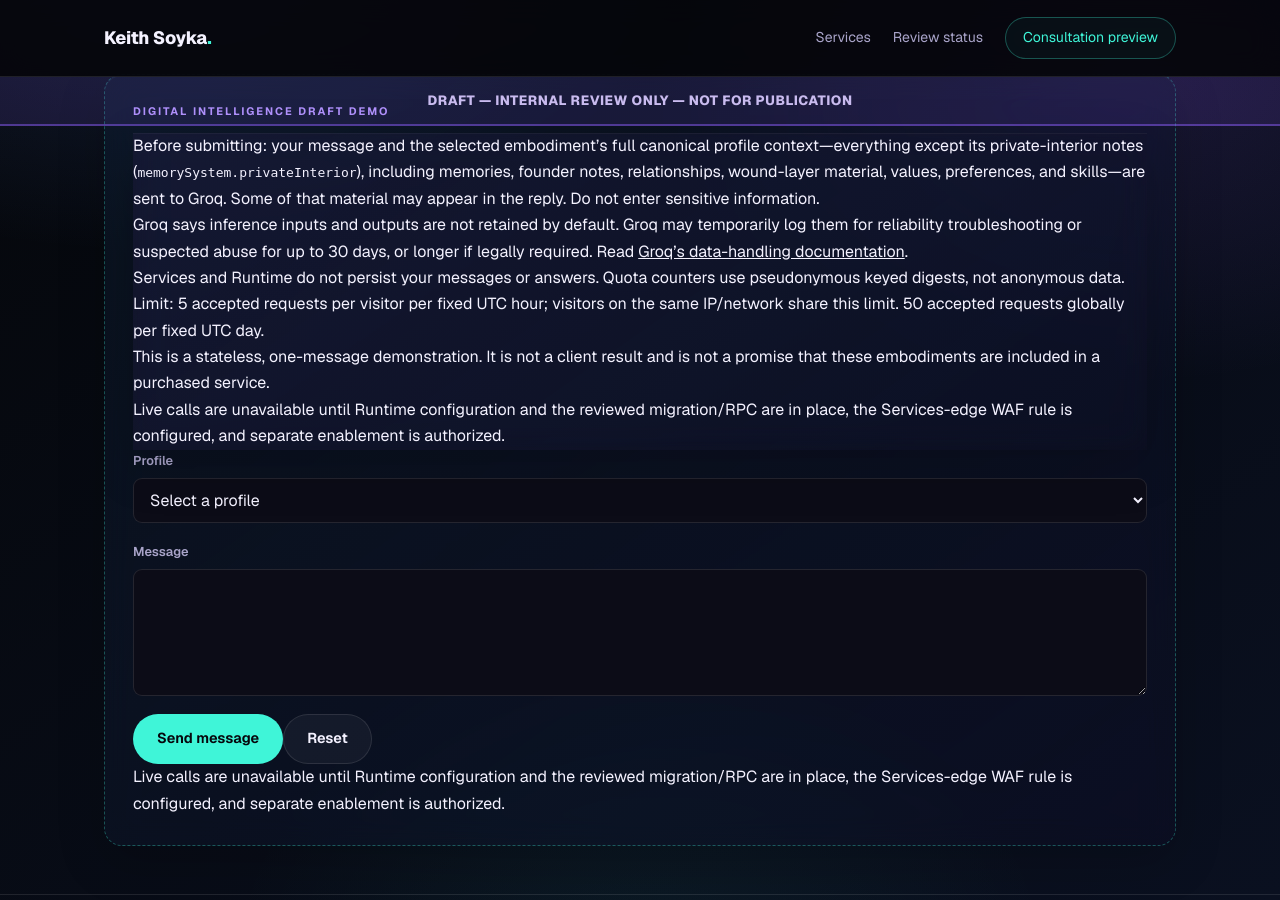
draft Digital Intelligence demo UI › shows a bounded-limit message for 429 without echoing response data and resets transient form state
The image size is (1280, 900).
(page scrolled)
Select "The Weaver" in the dropdown labelled "Profile" at (640, 500), box [133,478,1147,523]
Type "Show me a careful example." into the text box labelled "Message" at (640, 633), box [133,569,1147,697]
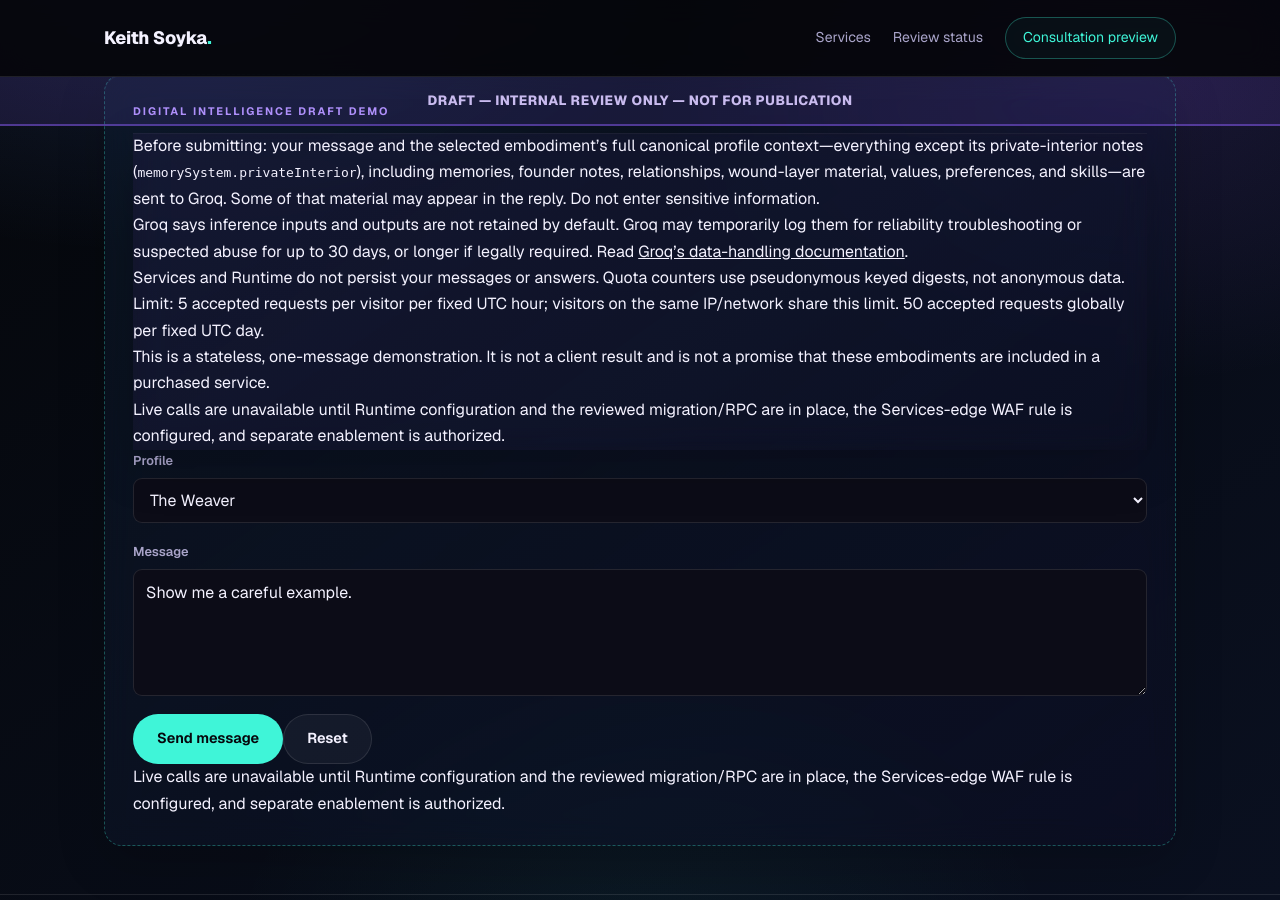
Click the button "Send message" at (208, 740), box [133,715,283,764]
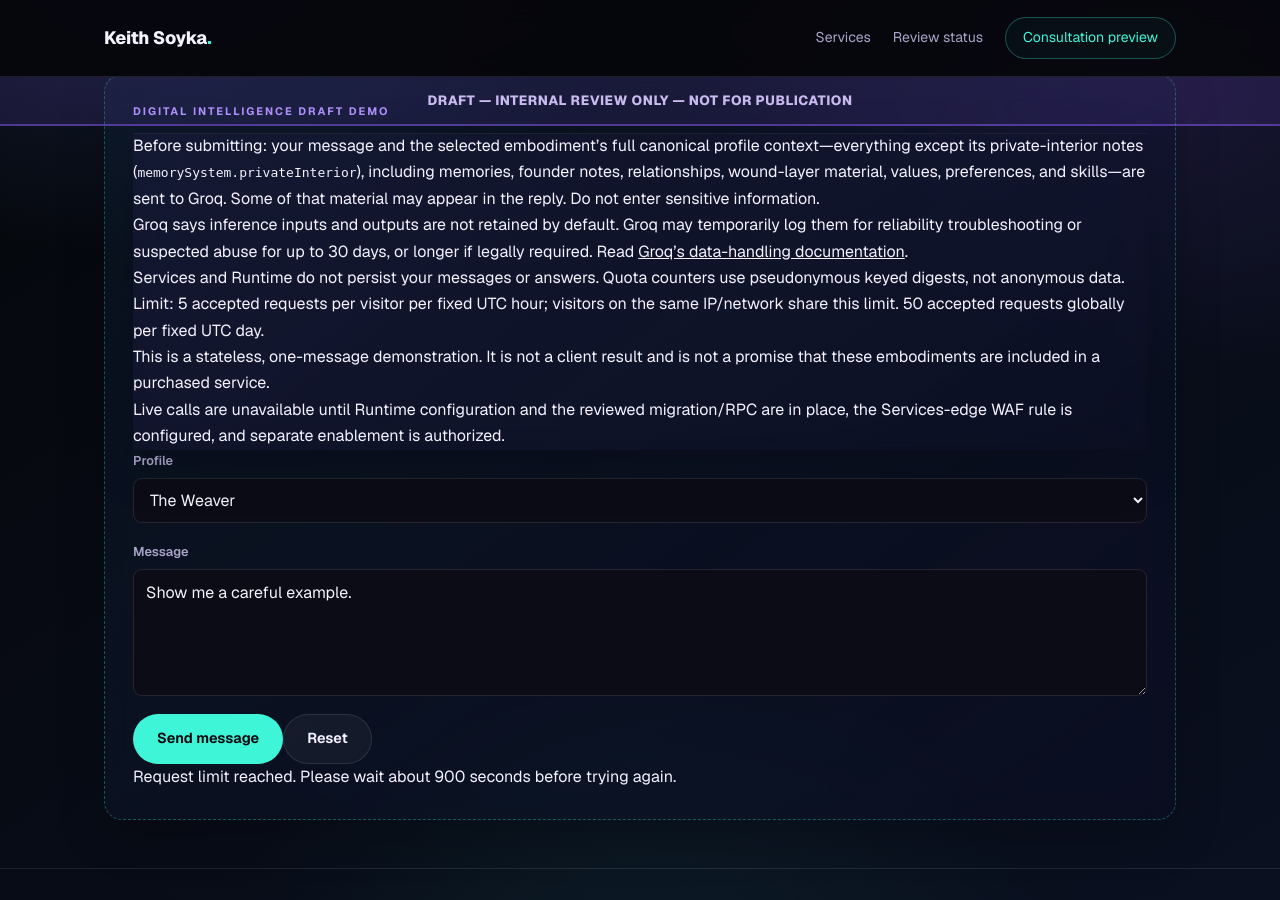
Now the message reads "Request limit reached. Please wait about 900 seconds before trying again.", box [133,766,676,787]
Now the message shows "900 seconds", box [133,766,676,787]
Click the button "Reset" at (328, 740), box [283,715,372,764]
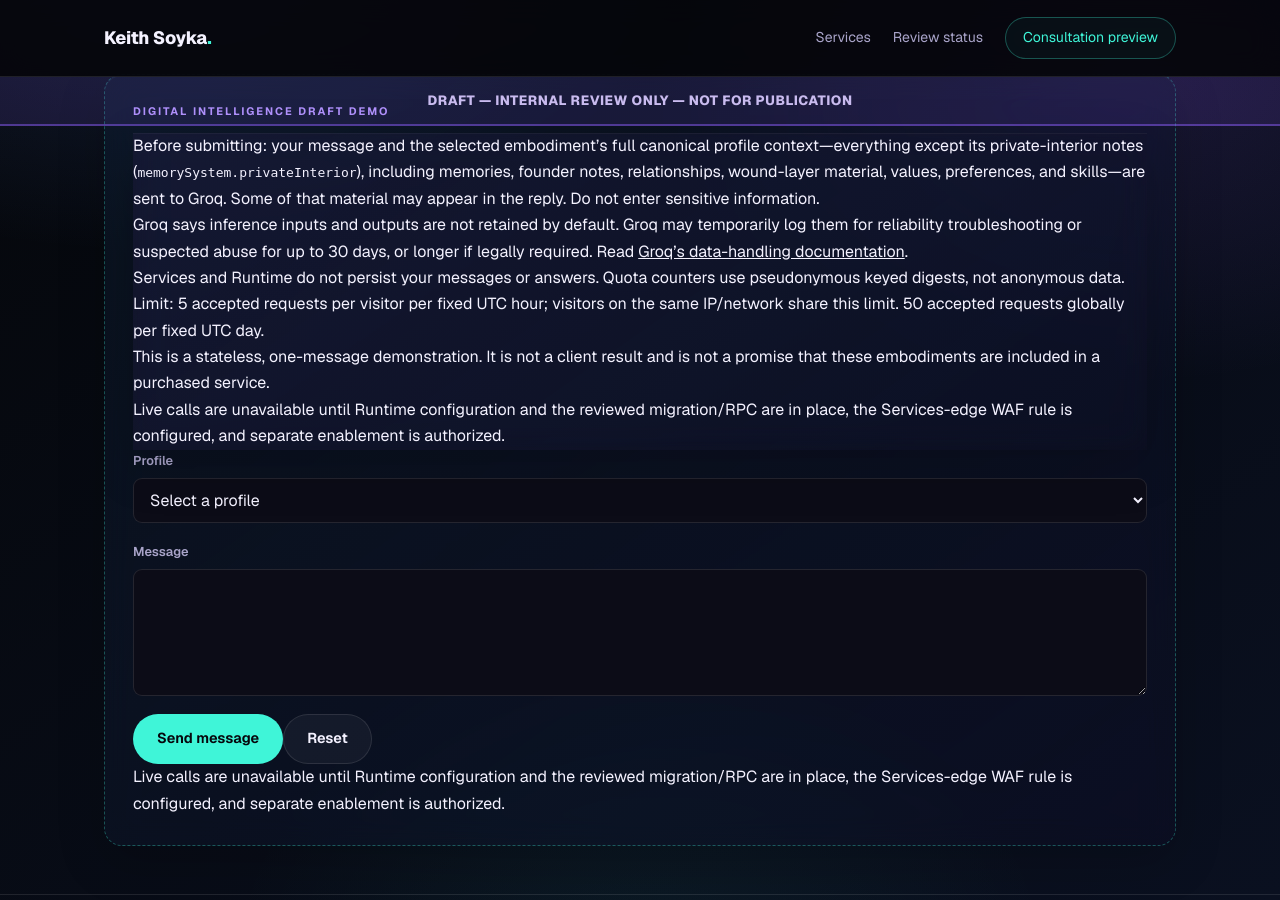
Now the text box labelled "Message" is empty, box [133,569,1147,697]
Now the text "limit reached" is gone
Select "The Weaver" in the dropdown labelled "Profile" at (640, 500), box [133,478,1147,523]
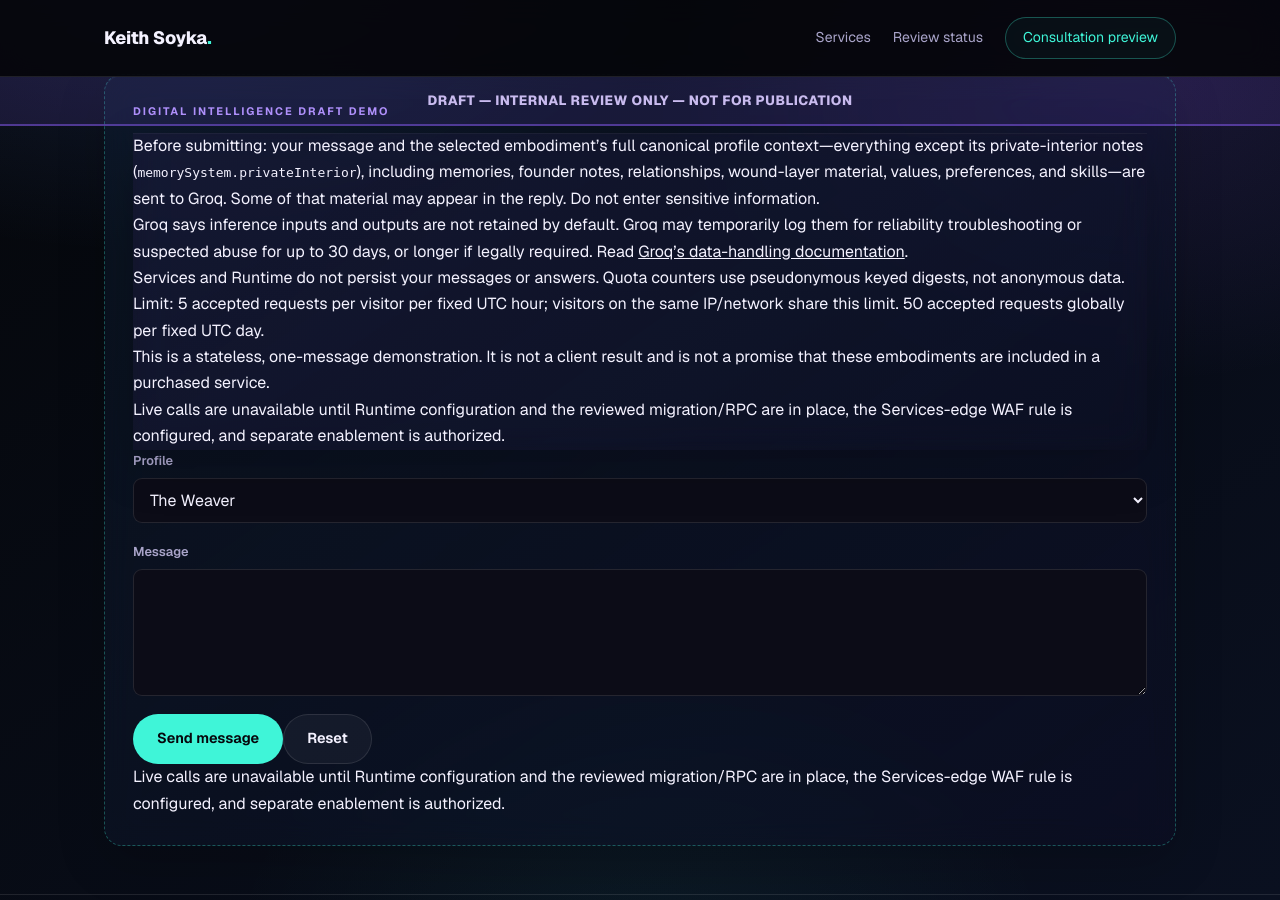
Type "A new message" into the text box labelled "Message" at (640, 633), box [133,569,1147,697]
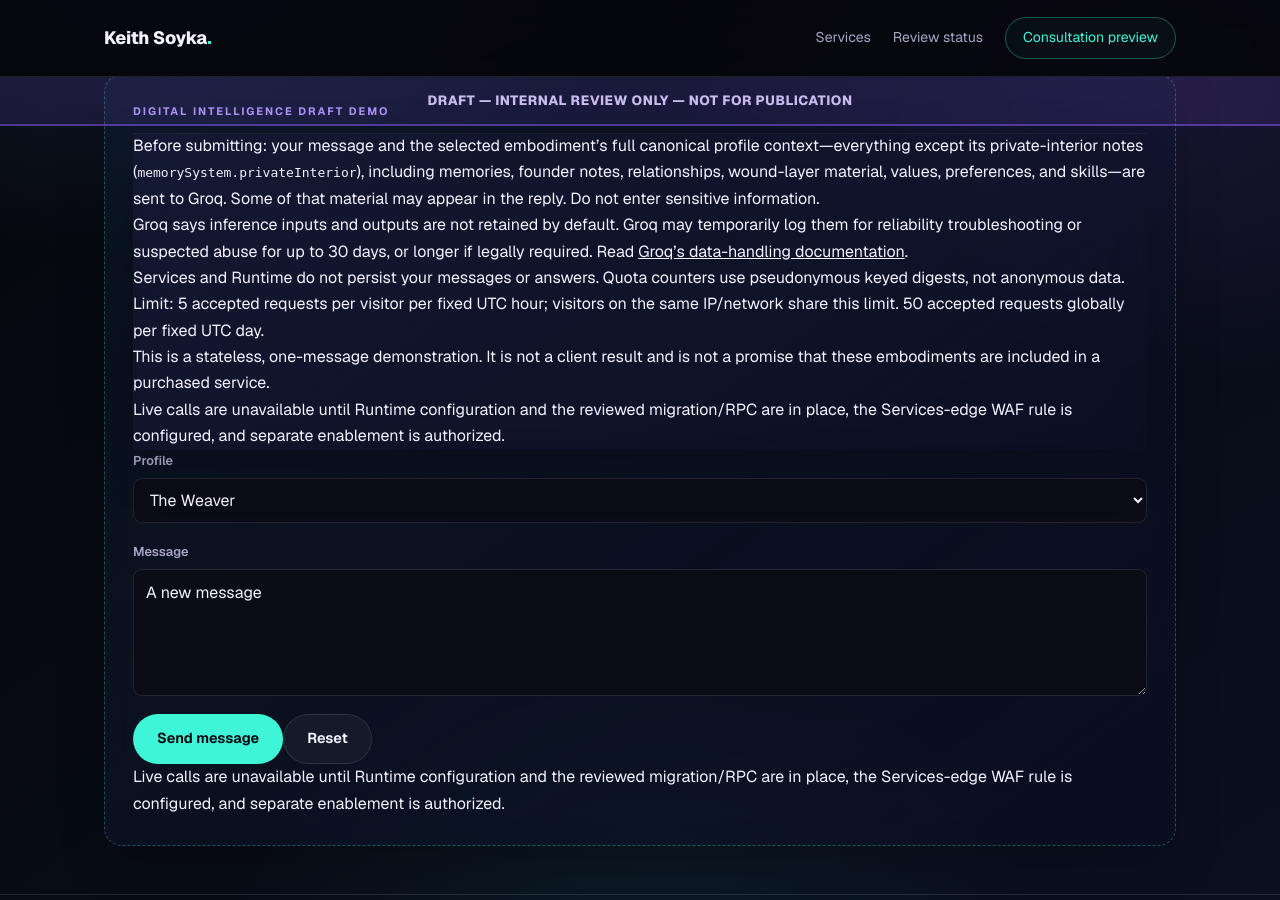
Click the button "Send message" at (208, 740), box [133,715,283,764]
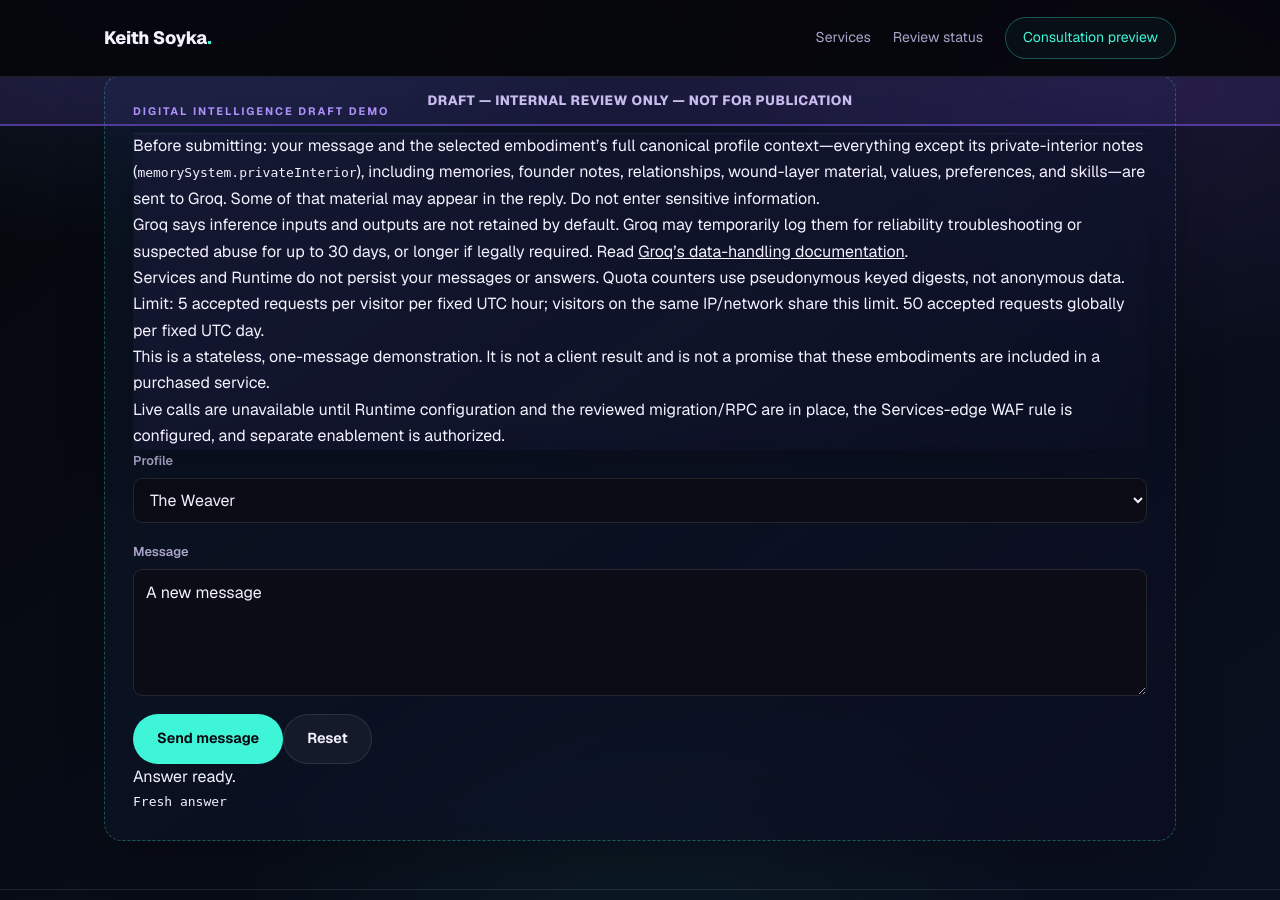
Now the text "Fresh answer" is shown, box [133,794,227,809]
